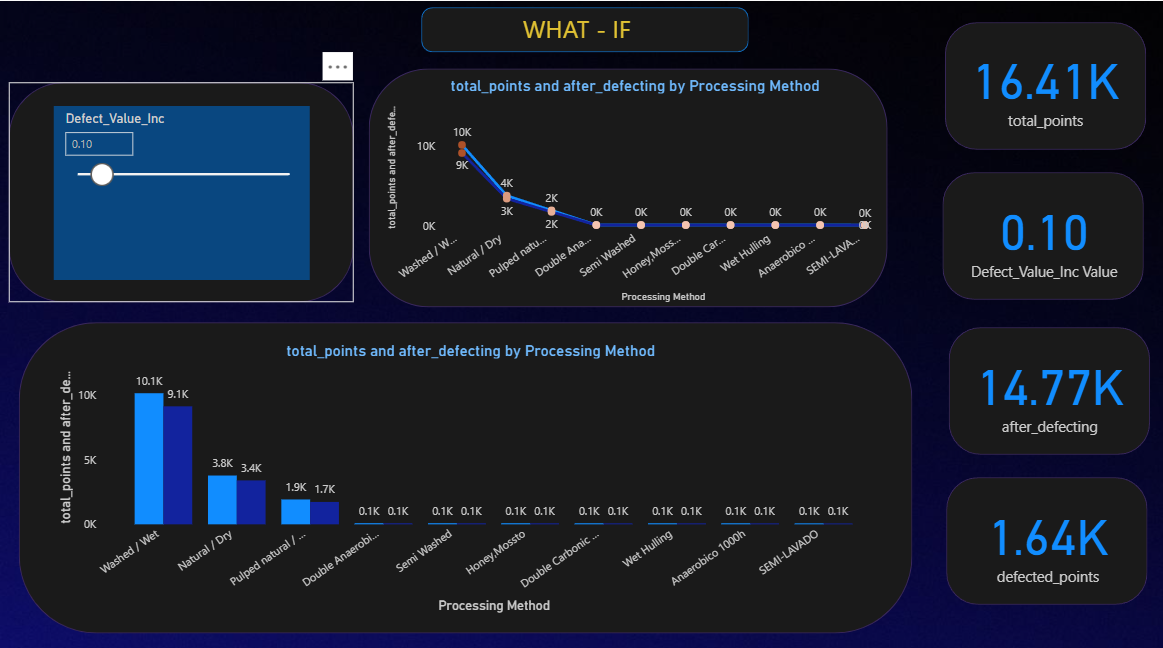

This screenshot's page, from the dashboard's own definition file:
{"tool":"powerbi","page":{"name":"WHAT-IF","canvas":[1280,720],"ordinal":3},"visuals":[{"type":"shape","box":[1037.4,23.1,220.9,140],"z":0},{"type":"card","fields":{"Values":["df_arabica_clean.total_points"]},"box":[1056.6,36.8,182.5,111.1],"z":1000},{"type":"shape","box":[1034.1,187.4,220.9,140],"z":2000},{"type":"card","fields":{"Values":["Defect_Value_Inc.Defect_Value_Inc Value"]},"box":[1047.8,201.2,196.2,113.9],"z":3000},{"type":"shape","box":[1041.2,358.4,220.9,140],"z":4000},{"type":"card","fields":{"Values":["df_arabica_clean.after_defecting"]},"box":[1049.5,374.9,205.8,107],"z":5000},{"type":"shape","box":[1038.8,522.8,220.9,140],"z":6000},{"type":"card","fields":{"Values":["df_arabica_clean.defected_points"]},"box":[1051.1,522.8,199,140],"z":7000},{"type":"shape","box":[20.6,352.7,981.1,341.7],"z":8000},{"type":"clusteredColumnChart","fields":{"Category":["df_arabica_clean.Processing Method"],"Y":["df_arabica_clean.total_points","df_arabica_clean.after_defecting"]},"box":[59,373.2,915.3,303.3],"z":9000},{"type":"shape","box":[9.6,89.5,378.7,241.5],"z":10000},{"type":"slicer","fields":{"Values":["Defect_Value_Inc.Defect_Value_Inc"]},"box":[59,115.5,279.9,190.7],"z":11000},{"type":"shape","box":[478.1,12.1,329.3,39.8],"z":12000},{"type":"shape","box":[463,6.6,359.5,49.4],"z":13000},{"type":"textbox","box":[523.4,6.6,220.9,45.3],"z":14000},{"type":"shape","box":[404.8,74.1,569.5,262.1],"z":15000},{"type":"lineChart","fields":{"Category":["df_arabica_clean.Processing Method"],"Y":["df_arabica_clean.total_points","df_arabica_clean.after_defecting"]},"box":[419.9,82.3,554.4,253.9],"z":16000}]}

Visuals, with their boxes in screenshot pixels (x1, y1, x2, y2), scaled from the page's 1280x720 canvas onto the 1163x648 screenshot:
shape: region(943, 21, 1143, 147)
card - df_arabica_clean.total_points: region(960, 33, 1126, 133)
shape: region(940, 169, 1140, 295)
card - Defect_Value_Inc.Defect_Value_Inc Value: region(952, 181, 1130, 284)
shape: region(946, 323, 1147, 449)
card - df_arabica_clean.after_defecting: region(954, 337, 1141, 434)
shape: region(944, 471, 1145, 597)
card - df_arabica_clean.defected_points: region(955, 471, 1136, 597)
shape: region(19, 317, 910, 625)
clusteredColumnChart - df_arabica_clean.Processing Method x df_arabica_clean.total_points: region(54, 336, 885, 609)
shape: region(9, 81, 353, 298)
slicer - Defect_Value_Inc.Defect_Value_Inc: region(54, 104, 308, 276)
shape: region(434, 11, 734, 47)
shape: region(421, 6, 747, 50)
textbox: region(476, 6, 676, 47)
shape: region(368, 67, 885, 303)
lineChart - df_arabica_clean.Processing Method x df_arabica_clean.total_points: region(382, 74, 885, 303)
